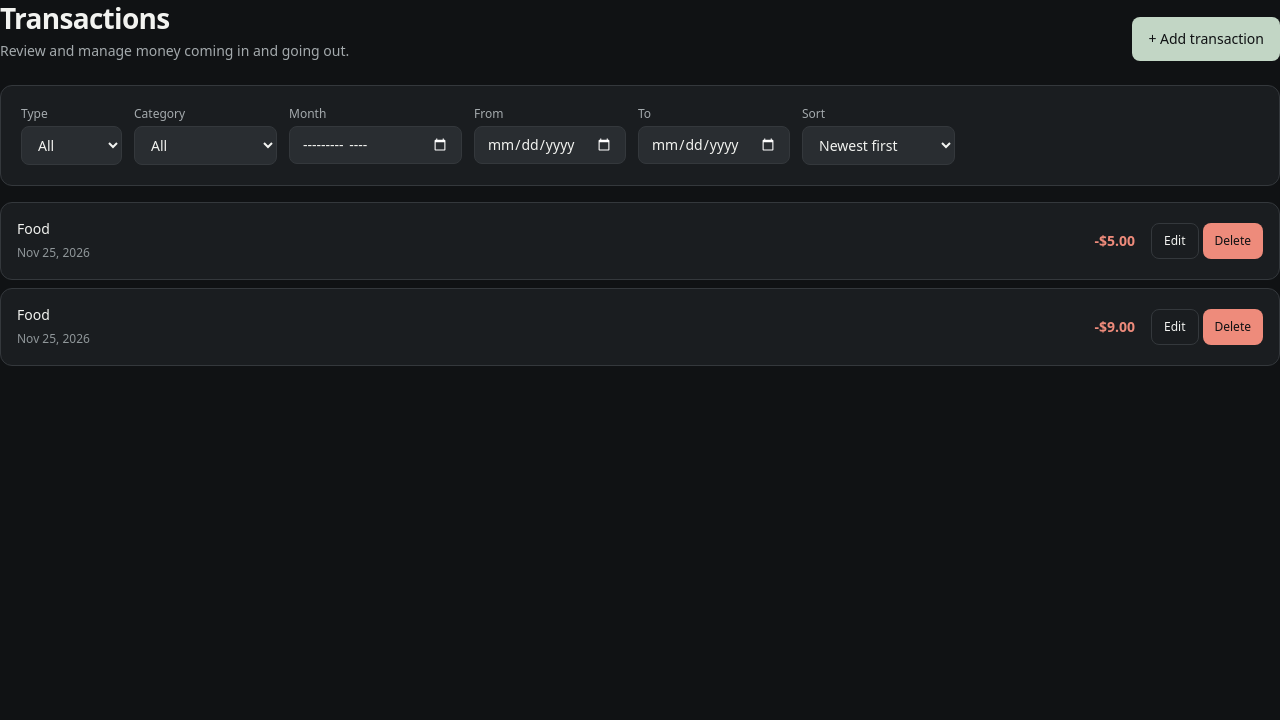
Test: editing records › switches the open transactions form to the selected record and saves the right amount
Later steps or results of the test are not shown.
What coordinates should you click on to do the following:
click the button "Edit" next to "$5.00"
I would click on:
 (1175, 241)
Its box is top-left (1151, 223), bottom-right (1198, 259).
(page scrolled)
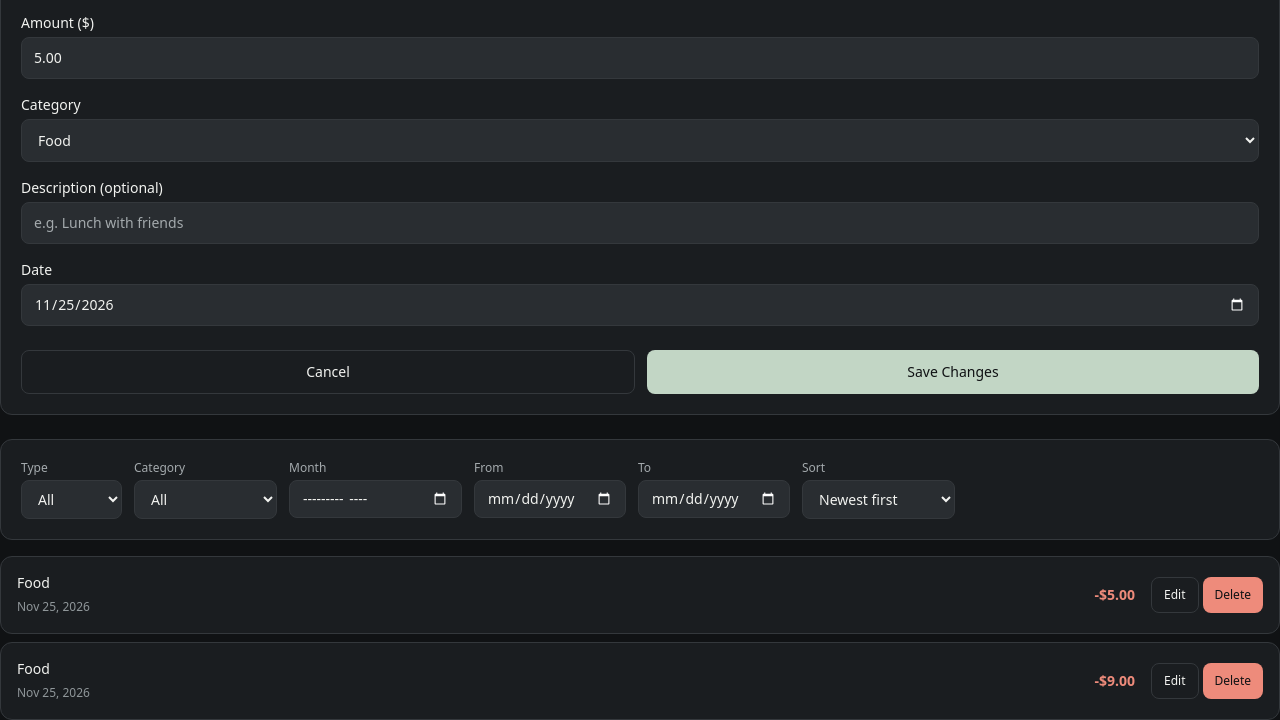
expect the number field holds "5.00": met, box top-left (21, 37), bottom-right (1259, 79)
